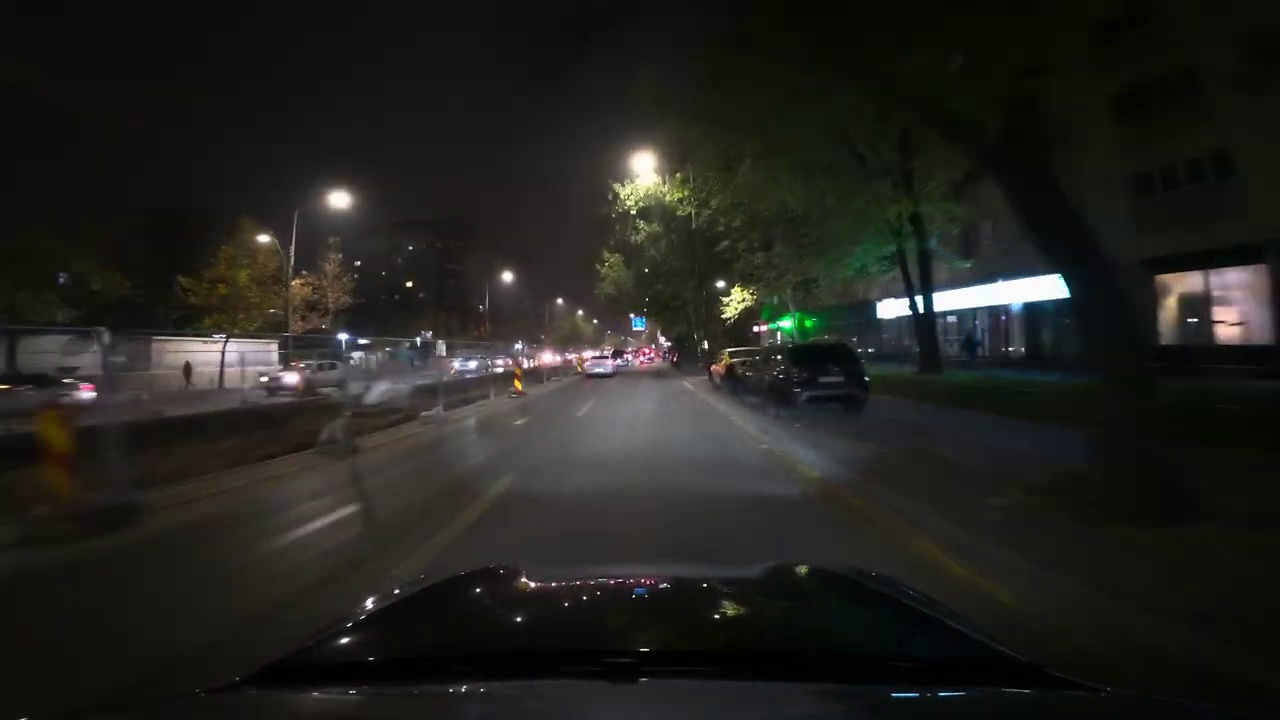acesa: (627, 149, 659, 182), (323, 186, 354, 215), (253, 230, 276, 252), (496, 266, 518, 288)
